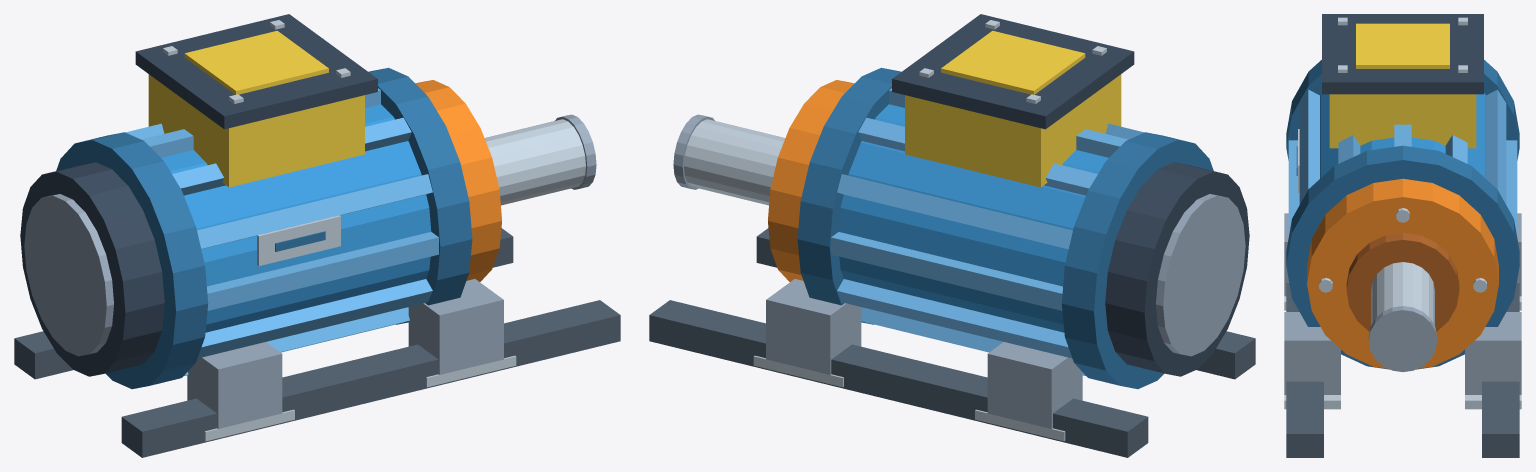
File: motor-m01.glb
3 renders of one model, left to right at view 1: azimuth 30°, elevation 25°; view 2: azimuth 150°, elevation 25°; view 3: azimuth 270°, elevation 25°, orthographic. The views are drawn at different scales.
Visible parts, largest first — view 1: tapa_oscura, detalles_acero, brida_azul_oscuro, aletas_azul_claro, carcasa_azul, base_grafito, conexion_amarilla, eje_acero, rodamiento_naranja; view 2: tapa_oscura, detalles_acero, carcasa_azul, brida_azul_oscuro, aletas_azul_claro, base_grafito, conexion_amarilla, eje_acero, rodamiento_naranja; view 3: rodamiento_naranja, brida_azul_oscuro, detalles_acero, conexion_amarilla, tapa_oscura, aletas_azul_claro, base_grafito, rodamiento_interior, eje_acero, carcasa_azul.
Part boxes in pixels (x1,y1,x2,y2): tapa_oscura: (20,14,377,376); detalles_acero: (24,114,596,428); brida_azul_oscuro: (56,67,472,389); aletas_azul_claro: (125,88,438,375); carcasa_azul: (161,104,431,332); base_grafito: (14,228,620,457); conexion_amarilla: (148,30,364,187); eje_acero: (163,20,585,441); rodamiento_naranja: (415,80,501,281); tapa_oscura: (892,14,1249,376); detalles_acero: (673,114,1245,428); carcasa_azul: (838,104,1108,332); brida_azul_oscuro: (797,67,1213,389); aletas_azul_claro: (831,88,1144,375); base_grafito: (649,228,1255,457); conexion_amarilla: (905,30,1121,187); eje_acero: (684,20,1106,441); rodamiento_naranja: (768,80,854,281); rodamiento_naranja: (1307,178,1498,368); brida_azul_oscuro: (1286,60,1519,369); detalles_acero: (1284,213,1521,394); conexion_amarilla: (1329,23,1476,148); tapa_oscura: (1322,14,1483,94); aletas_azul_claro: (1288,89,1517,236); base_grafito: (1286,283,1519,457); rodamiento_interior: (1346,233,1459,331); eje_acero: (1284,17,1521,409); carcasa_azul: (1320,93,1485,178).
Size of the model in its own units: 1.43 by 0.823 by 0.63.
